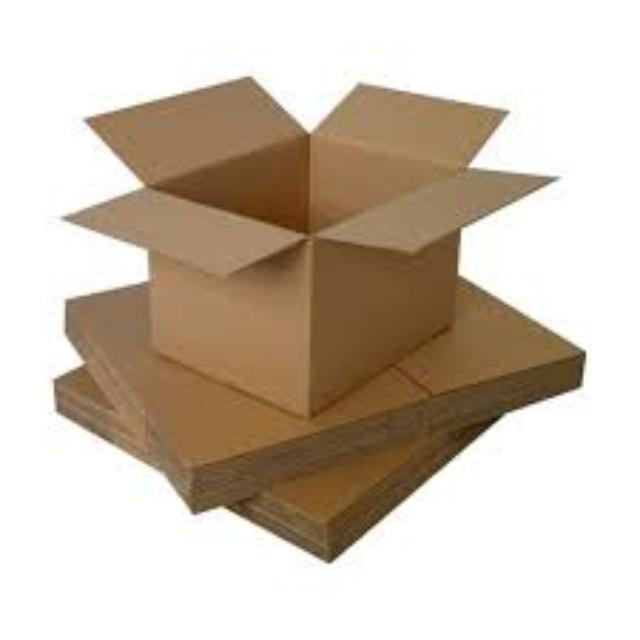cardboard paper: (63, 74, 546, 410)
